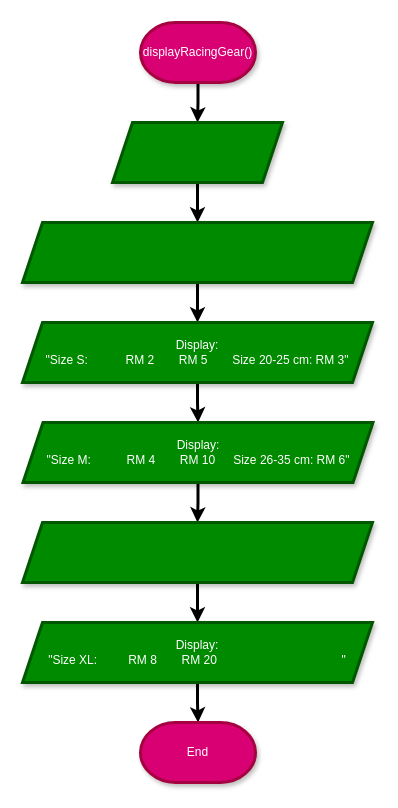
Image size: 398x808. Some labels were removed from this diagram. The shapes that lost their labels are listed below. From the top down, each one's centre as x and y in pixels, then its label:
(x=198, y=153): Display: "Racing Gears"
(x=198, y=253): Display: "Helmets Suits Shoes"
(x=198, y=553): Display: "Size L: RM 6 RM 15 "
